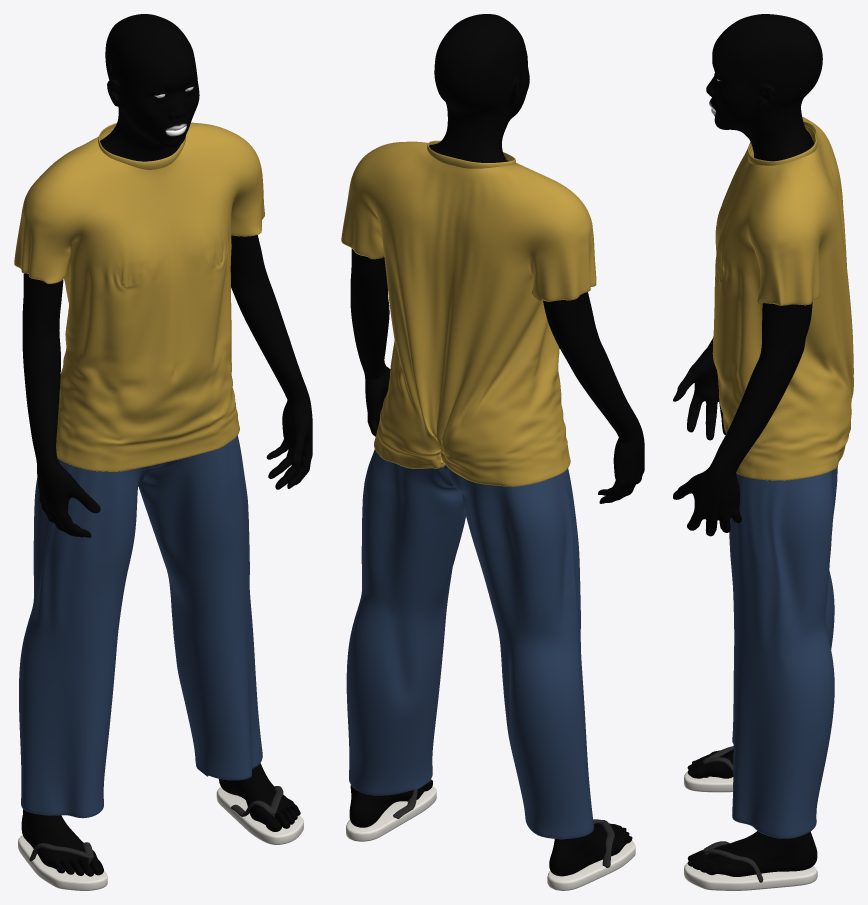
Rendered from dimas.glb.
The picture shows the model from 3 angles, left to right: view 1: azimuth 30°, elevation 25°; view 2: azimuth 150°, elevation 25°; view 3: azimuth 270°, elevation 25°; orthographic projection.
Visible parts, largest first — view 1: Kemeja, Celana, Badan, SandalAlas, SandalAlas.001, Kerah; view 2: Kemeja, Celana, Badan, SandalAlas, SandalAlas.001, Kerah; view 3: Kemeja, Celana, Badan, SandalAlas, SandalAlas.001, Kerah, SandalTali.
Boxes of the visible parts, box(x1,y1,x2,y2) form: Kemeja: box(14, 122, 264, 471); Celana: box(19, 435, 262, 818); Badan: box(21, 14, 312, 876); SandalAlas: box(216, 787, 303, 844); SandalAlas.001: box(18, 835, 107, 890); Kerah: box(98, 123, 185, 169); Kemeja: box(341, 141, 596, 486); Celana: box(346, 449, 593, 839); Badan: box(349, 14, 644, 876); SandalAlas: box(346, 786, 436, 841); SandalAlas.001: box(547, 840, 635, 890); Kerah: box(427, 140, 515, 168); Kemeja: box(712, 117, 853, 480); Celana: box(729, 466, 837, 838); Badan: box(673, 14, 822, 876); SandalAlas: box(684, 863, 817, 890); SandalAlas.001: box(684, 771, 733, 792); Kerah: box(747, 121, 817, 165); SandalTali: box(703, 841, 763, 882).
Size of the model in its own units: 0.5664 by 1.64 by 0.3316.
7 materials, 2 textured.
